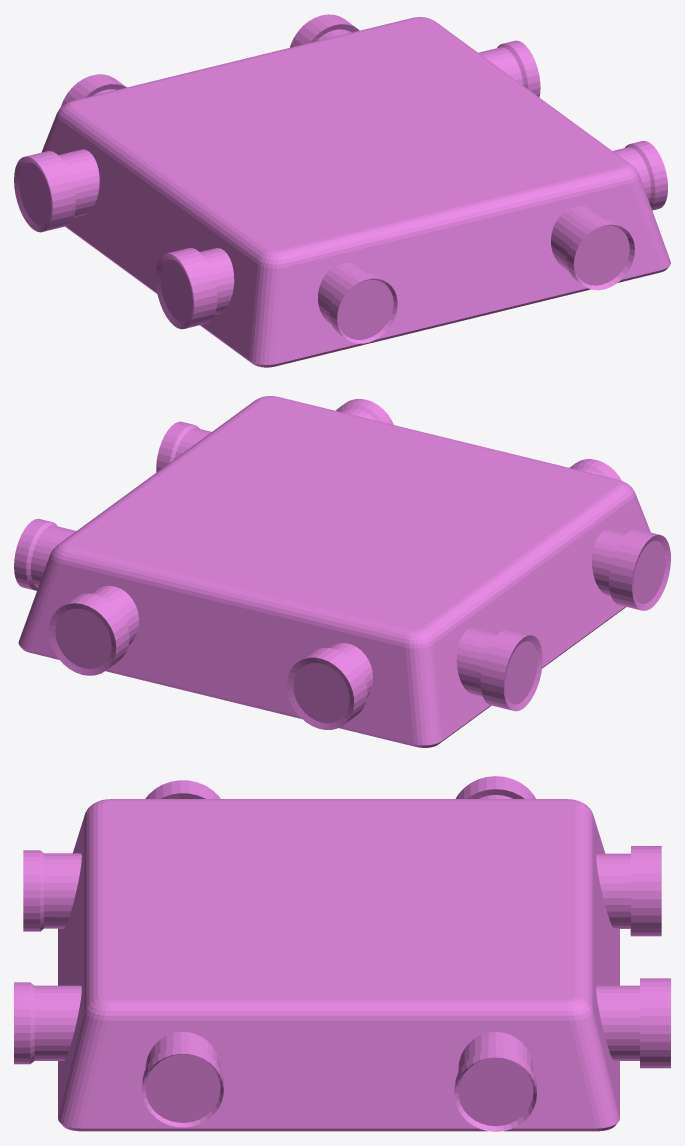
File: Num128.fbx
3 renders of one model, top to bottom at view 1: azimuth 30°, elevation 25°; view 2: azimuth 150°, elevation 25°; view 3: azimuth 270°, elevation 25°, orthographic. The views are drawn at different scales.
Visible parts, largest first — view 1: Cube.006; view 2: Cube.006; view 3: Cube.006.
Part boxes in pixels (x1,y1,x2,y2): Cube.006: (14,14,670,367); Cube.006: (14,396,670,747); Cube.006: (14,776,670,1131).
Bounding box in the file's own units: 5.24 × 1 × 5.24.
